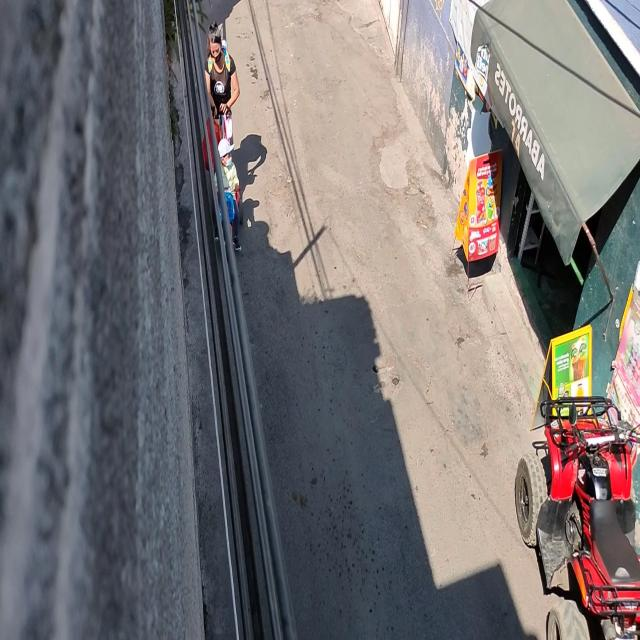adult: (203, 17, 243, 190)
child: (210, 136, 242, 256)
